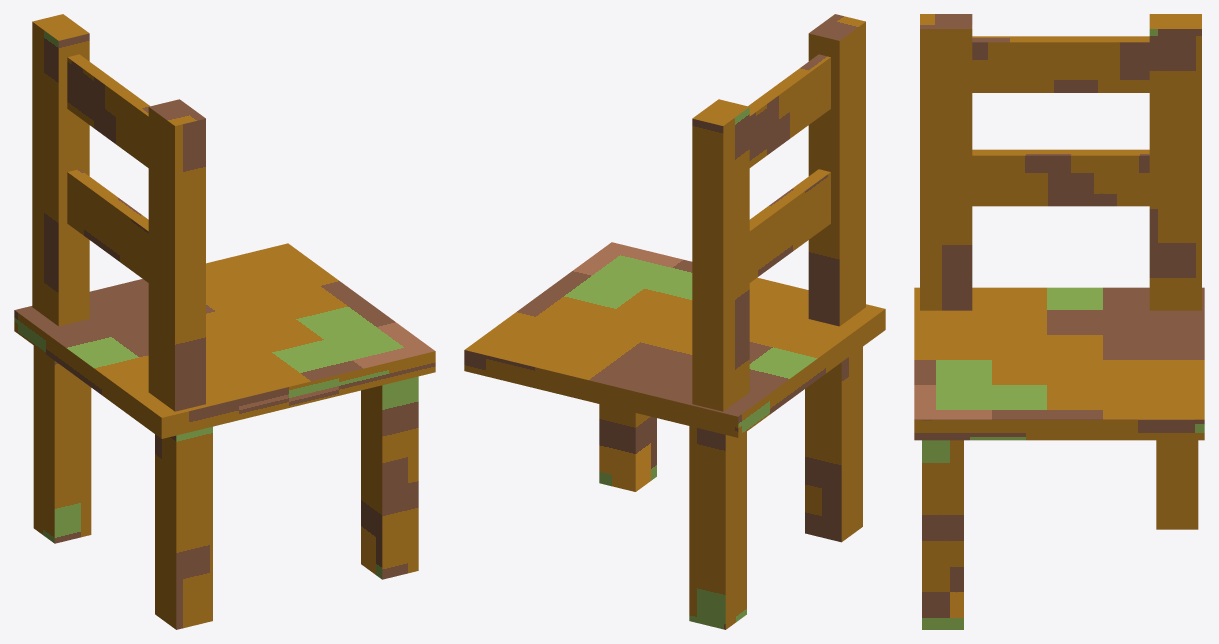
Rendered from chair.fbx.
3 renders of one model, left to right at view 1: azimuth 30°, elevation 25°; view 2: azimuth 150°, elevation 25°; view 3: azimuth 270°, elevation 25°, orthographic.
Parts seen in each view (by area): view 1: Chair; view 2: Chair; view 3: Chair.
Boxes of the visible parts, bbox=[...] form: Chair: bbox=[14, 14, 435, 629]; Chair: bbox=[464, 14, 885, 629]; Chair: bbox=[914, 14, 1204, 629].
Bounding box in the file's own units: 0.7432 × 1.31 × 0.6929.
